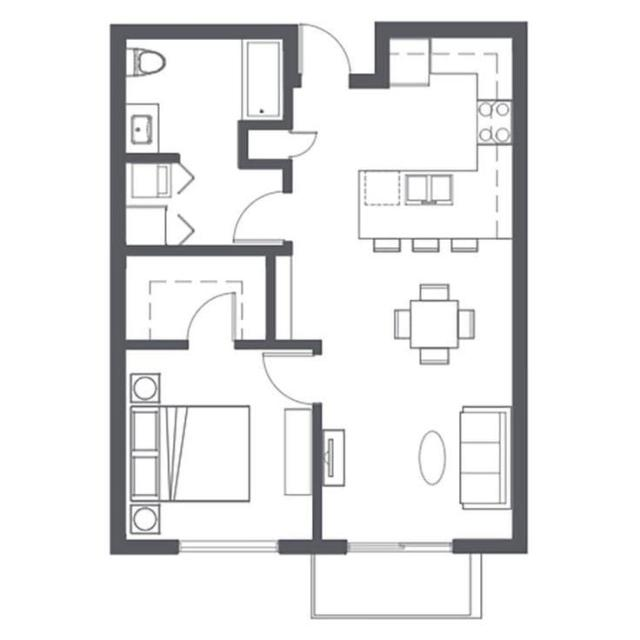Door: (298, 24, 352, 92), (262, 352, 324, 406), (232, 191, 294, 244), (185, 291, 238, 352)
OuterWall: (115, 27, 522, 549)
Window: (346, 539, 456, 555), (177, 539, 281, 555)
